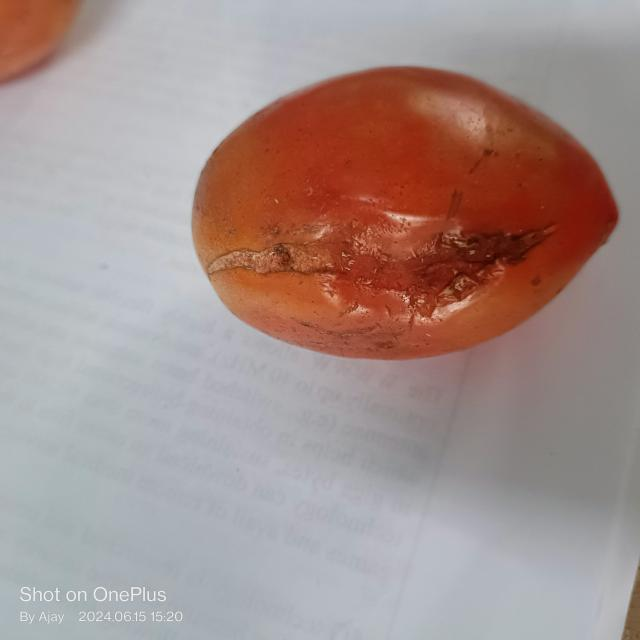tomato_cracking: (198, 220, 566, 334)
